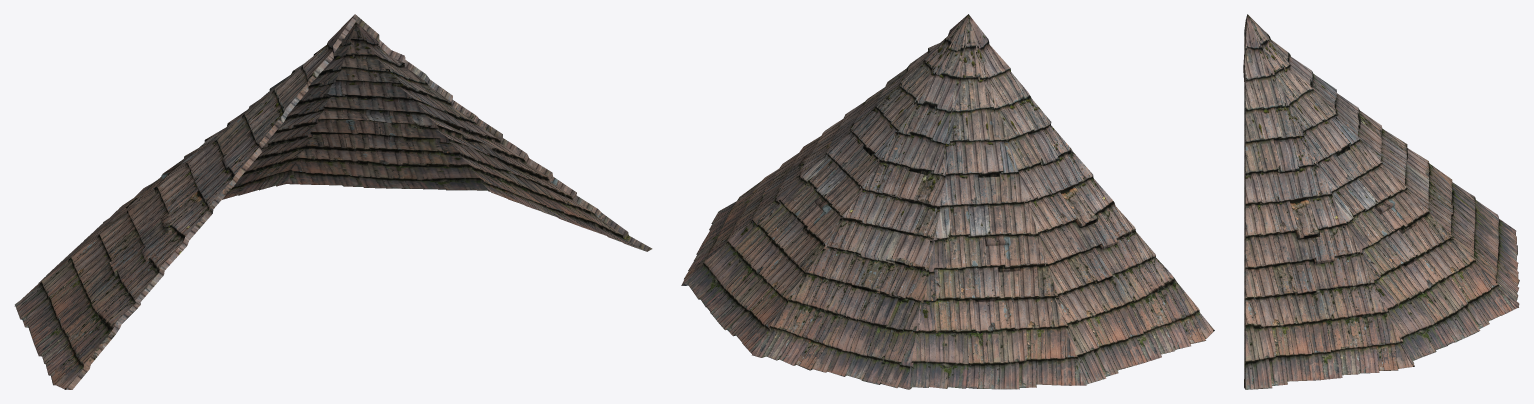
The model's file is SM_OldCeramicRoofTiles_01_03.fbx.
The picture shows the model from 3 angles, left to right: view 1: azimuth 30°, elevation 25°; view 2: azimuth 150°, elevation 25°; view 3: azimuth 270°, elevation 25°; orthographic projection. The views are drawn at different scales.
Parts seen in each view (by area): view 1: sm_OldCeramicRoofTiles_01_03_LOD0; view 2: sm_OldCeramicRoofTiles_01_03_LOD0; view 3: sm_OldCeramicRoofTiles_01_03_LOD0.
Boxes of the visible parts, left/top/right/bottom form: sm_OldCeramicRoofTiles_01_03_LOD0: left=14, top=14, right=652, bottom=389; sm_OldCeramicRoofTiles_01_03_LOD0: left=681, top=14, right=1214, bottom=389; sm_OldCeramicRoofTiles_01_03_LOD0: left=1243, top=14, right=1519, bottom=389.
Bounding box in the file's own units: 488 × 999 × 501.
